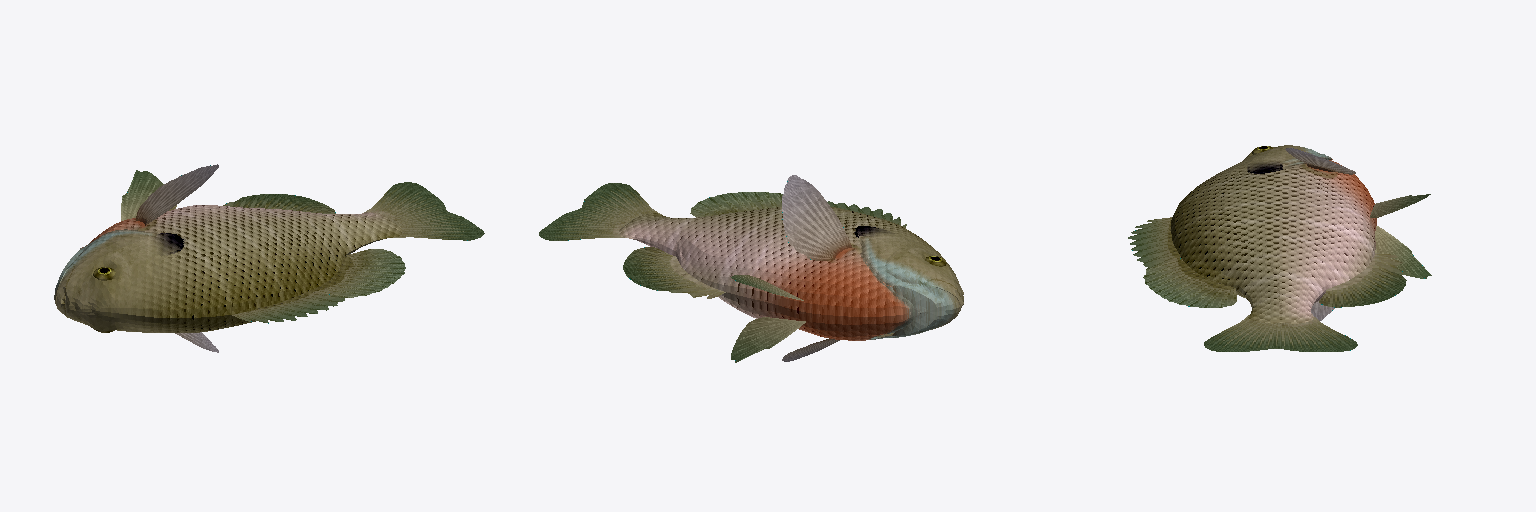
The picture shows the model from 3 angles: view 1: azimuth 30°, elevation 25°; view 2: azimuth 150°, elevation 25°; view 3: azimuth 270°, elevation 25°; orthographic projection.
Visible parts, largest first — view 1: object, object9, object3, object5, object2, object8, object7; view 2: object, object5, object9, object8, object6, object3; view 3: object, object9, object3, object8, object2, object6, object5, object7.
Boxes of the visible parts, box(x1,y1,x2,y2) form: object: box(54, 205, 401, 332); object9: box(364, 182, 484, 240); object3: box(310, 249, 405, 297); object5: box(136, 164, 218, 225); object2: box(232, 291, 344, 323); object8: box(223, 194, 335, 213); object7: box(121, 170, 176, 220); object: box(619, 207, 963, 340); object5: box(782, 175, 851, 260); object9: box(539, 183, 661, 240); object8: box(623, 247, 725, 298); object6: box(731, 317, 805, 362); object3: box(690, 192, 782, 216); object: box(1171, 145, 1376, 323); object9: box(1204, 315, 1357, 351); object3: box(1143, 258, 1236, 307); object8: box(1319, 253, 1406, 307); object2: box(1128, 217, 1180, 268); object6: box(1375, 226, 1431, 278); object5: box(1285, 148, 1355, 174); object7: box(1370, 194, 1430, 217).
Bounding box in the file's own units: 10 × 4.52 × 6.73.
1 materials, 1 textured.